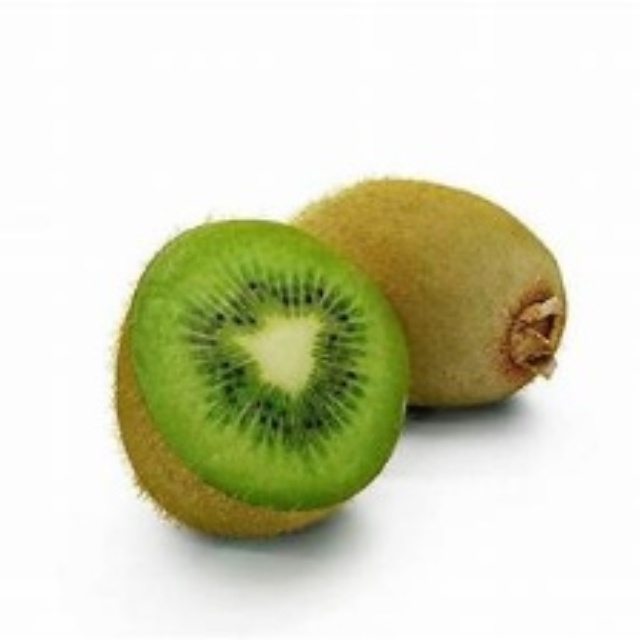kiwi: (104, 212, 412, 542), (287, 169, 564, 405)
